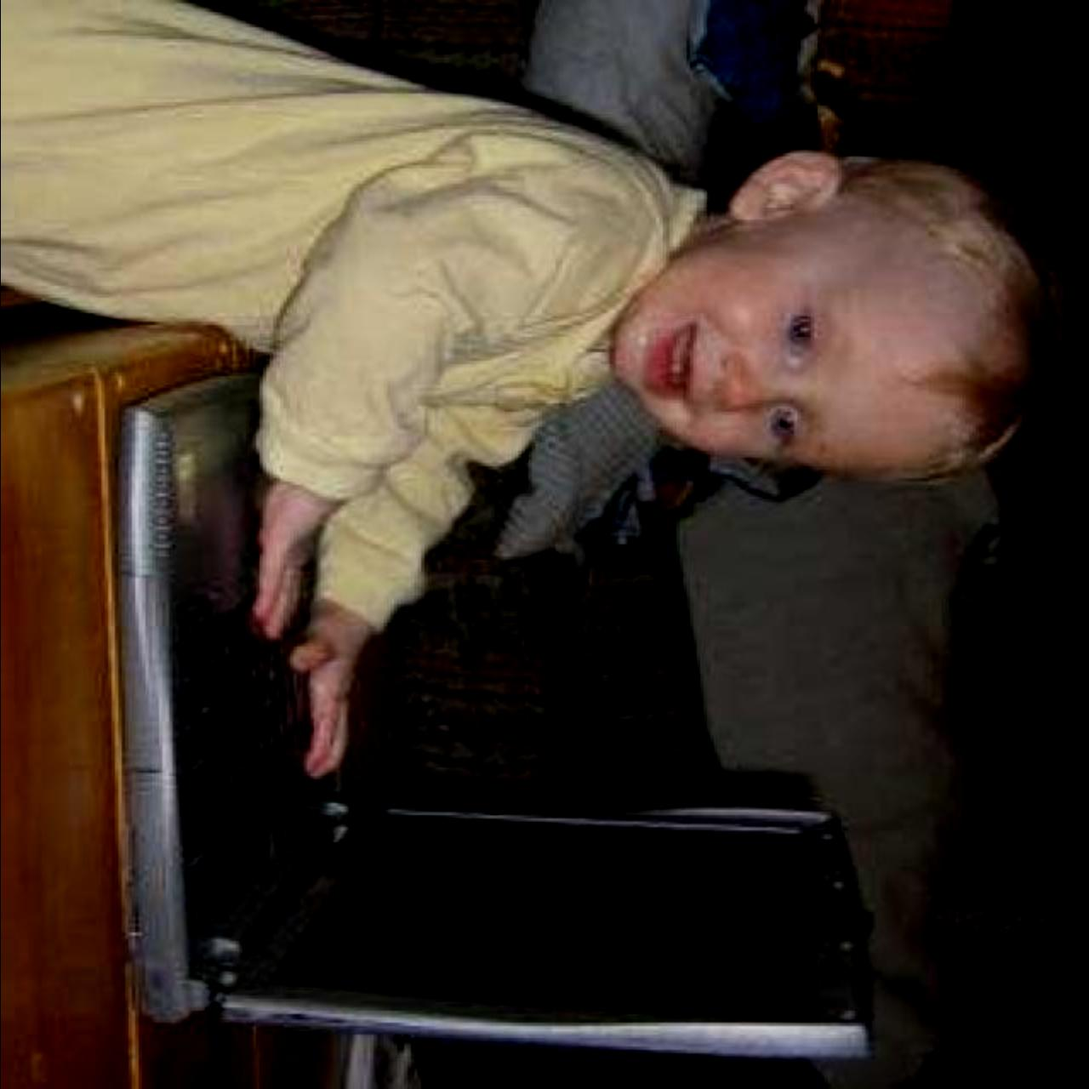laptop: (90, 366, 856, 1089)
